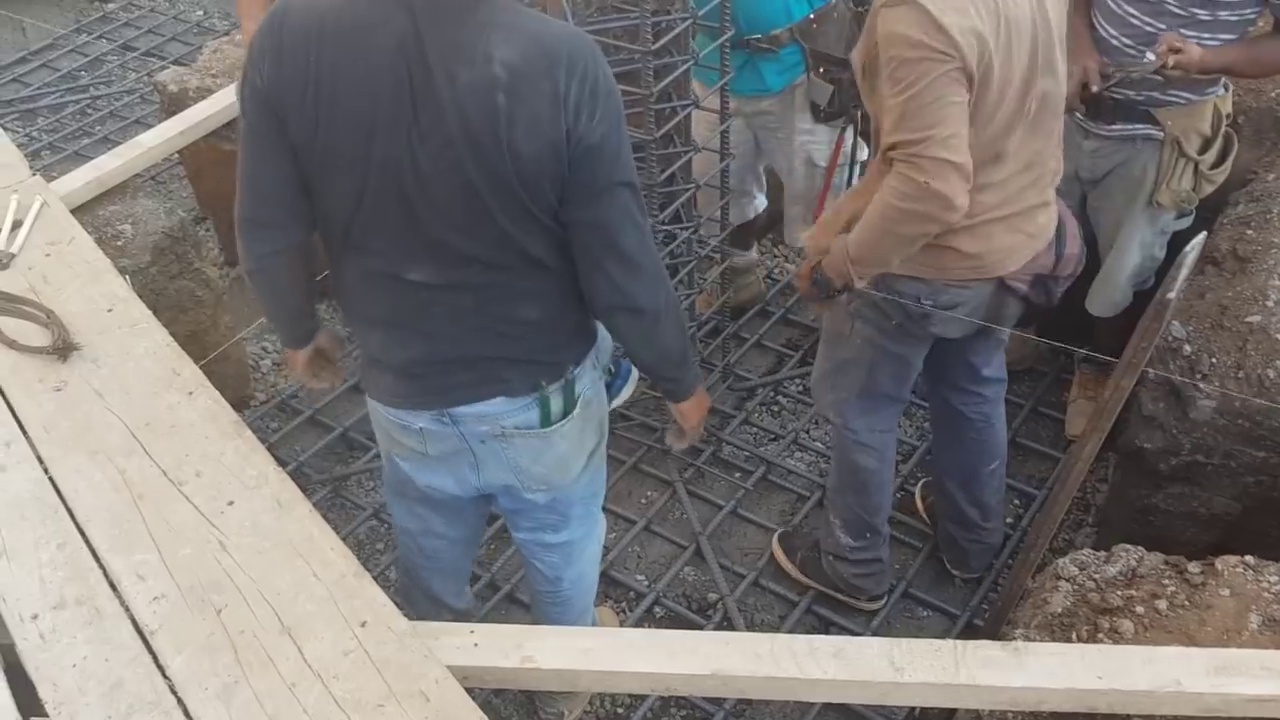person: (226, 0, 708, 632), (770, 0, 1075, 612), (1064, 0, 1280, 437), (682, 0, 824, 344)
